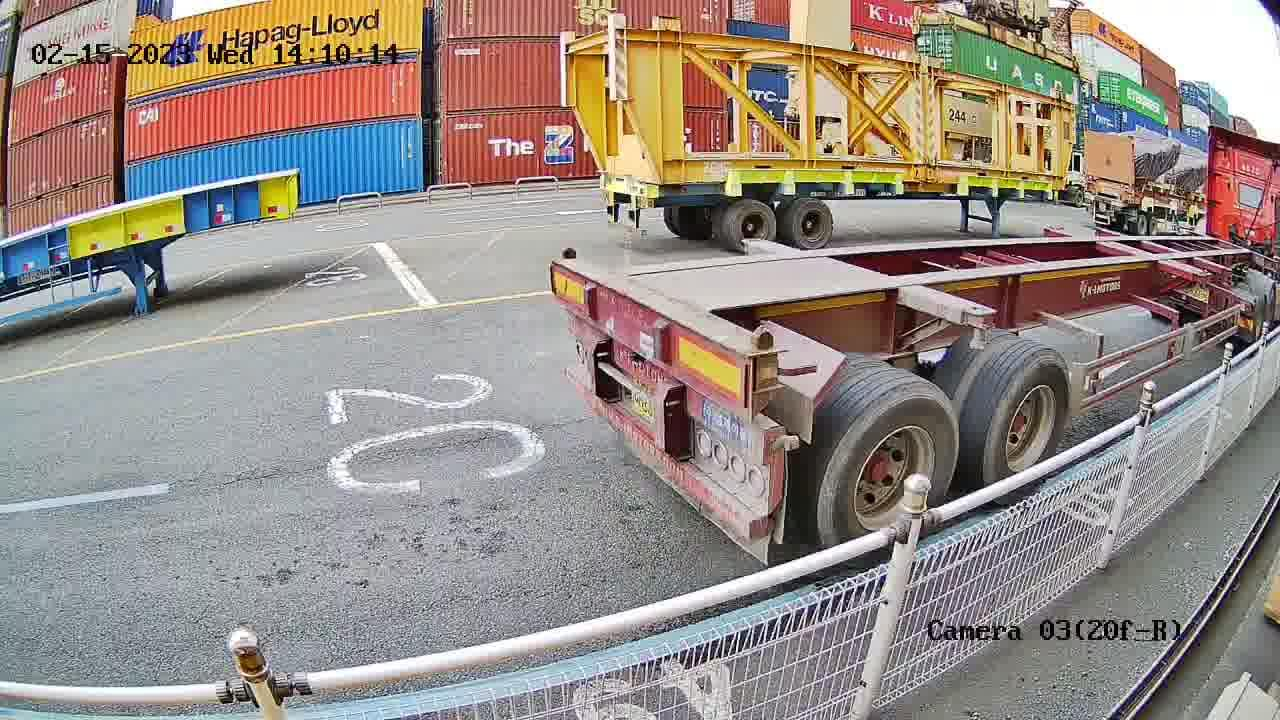Chassis: (552, 267, 758, 417)
Cone: (741, 326, 781, 408), (552, 245, 585, 266)
Tire: (818, 389, 958, 547), (978, 349, 1070, 479)
